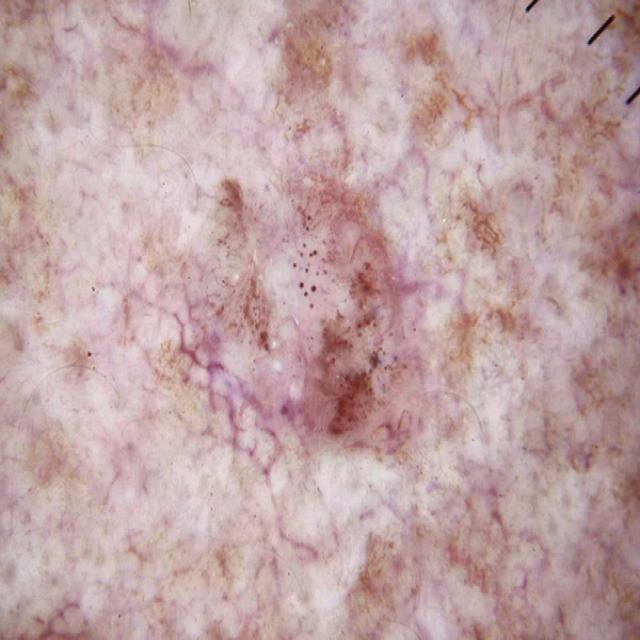Basal-Cell-Carcinoma-BCC-: (133, 116, 511, 492)
